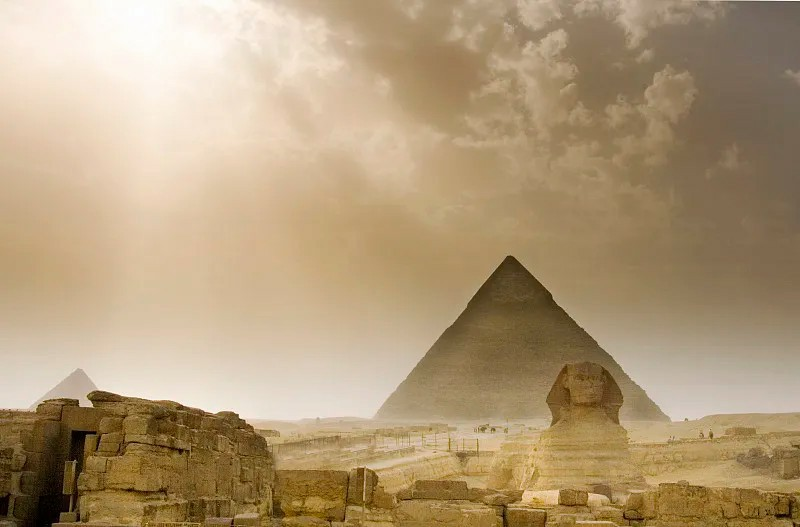Pyramid: (373, 256, 671, 424)
